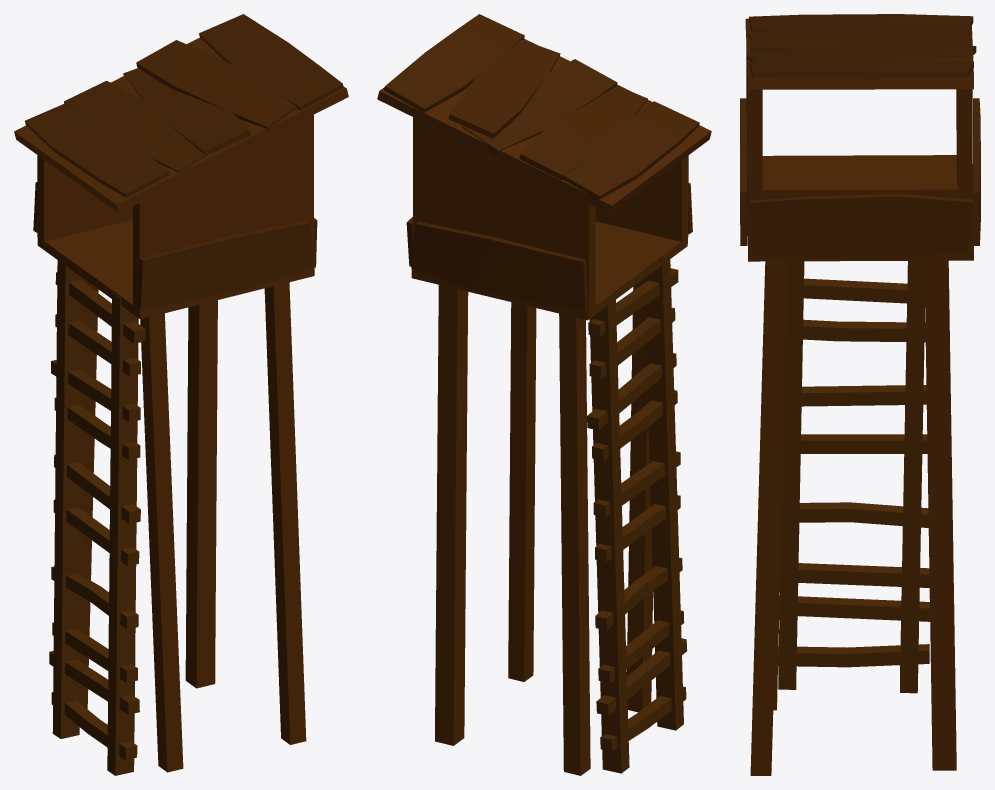
Rendered from huntbase.fbx.
3 views of the same model, side by side, from view 1: azimuth 30°, elevation 25°; view 2: azimuth 150°, elevation 25°; view 3: azimuth 270°, elevation 25° (orthographic). The views are drawn at different scales.
Visible parts, largest first — view 1: Base; view 2: Base; view 3: Base.
Part boxes in pixels (bbox=[...]): Base: bbox=[14, 14, 348, 775]; Base: bbox=[377, 14, 711, 775]; Base: bbox=[740, 14, 980, 775].
Bounding box in the file's own units: 281 × 749 × 224.
